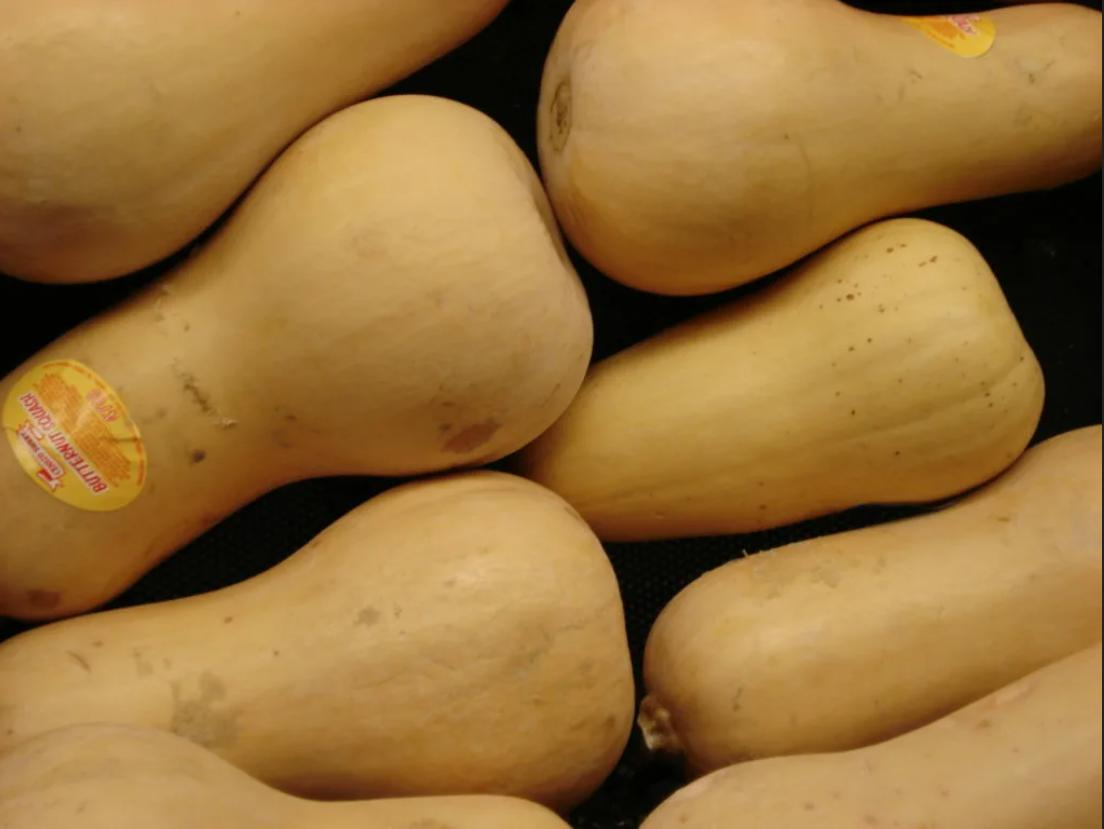butternut squash: (0, 0, 645, 555), (574, 221, 1104, 829), (0, 460, 611, 829), (529, 0, 1104, 319)
